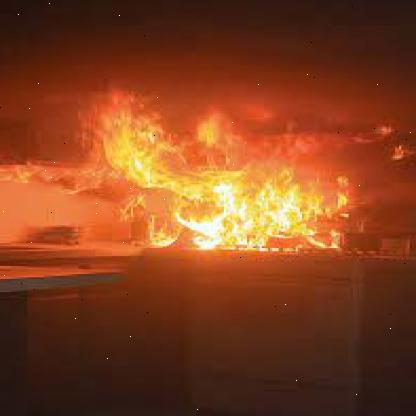fire: (72, 87, 397, 257)
smoke: (0, 5, 416, 159)
